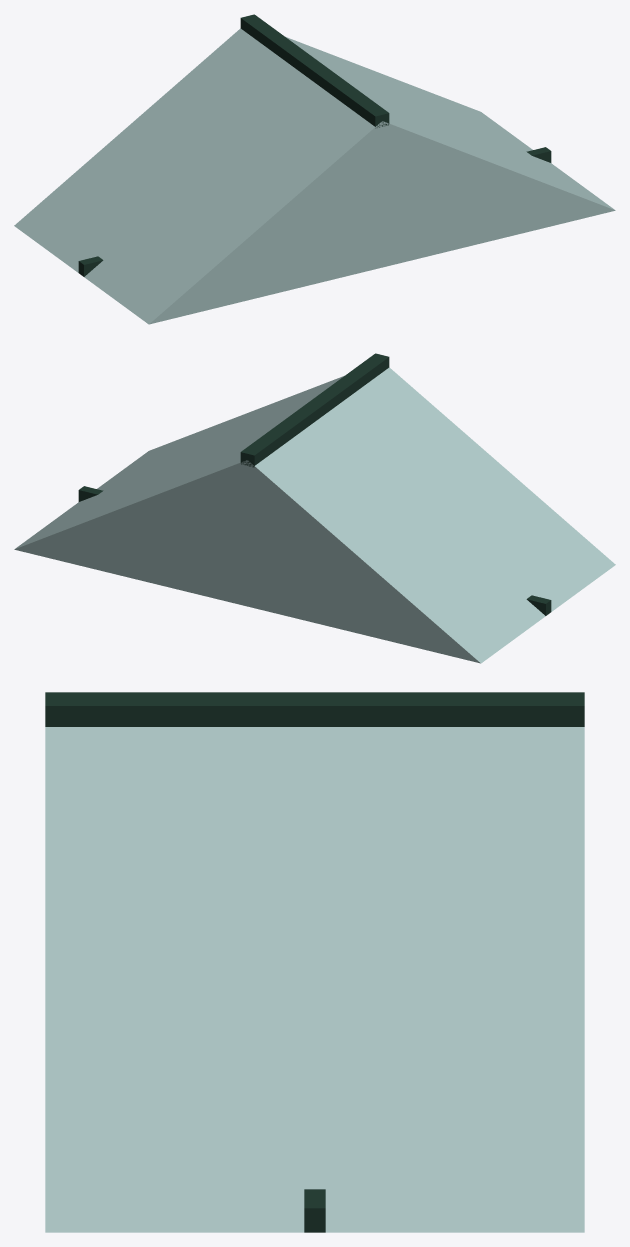
File: arcade-cover.glb
3 views of the same model, one above another, from view 1: azimuth 30°, elevation 25°; view 2: azimuth 150°, elevation 25°; view 3: azimuth 270°, elevation 25° (orthographic). The views are drawn at different scales.
Parts seen in each view (by area): view 1: arcade-cover; view 2: arcade-cover; view 3: arcade-cover.
Part boxes in pixels (bbox=[...]): arcade-cover: bbox=[14, 14, 615, 324]; arcade-cover: bbox=[14, 353, 615, 663]; arcade-cover: bbox=[45, 692, 584, 1232].
Size of the model in its own units: 8 by 2.5 by 4.
